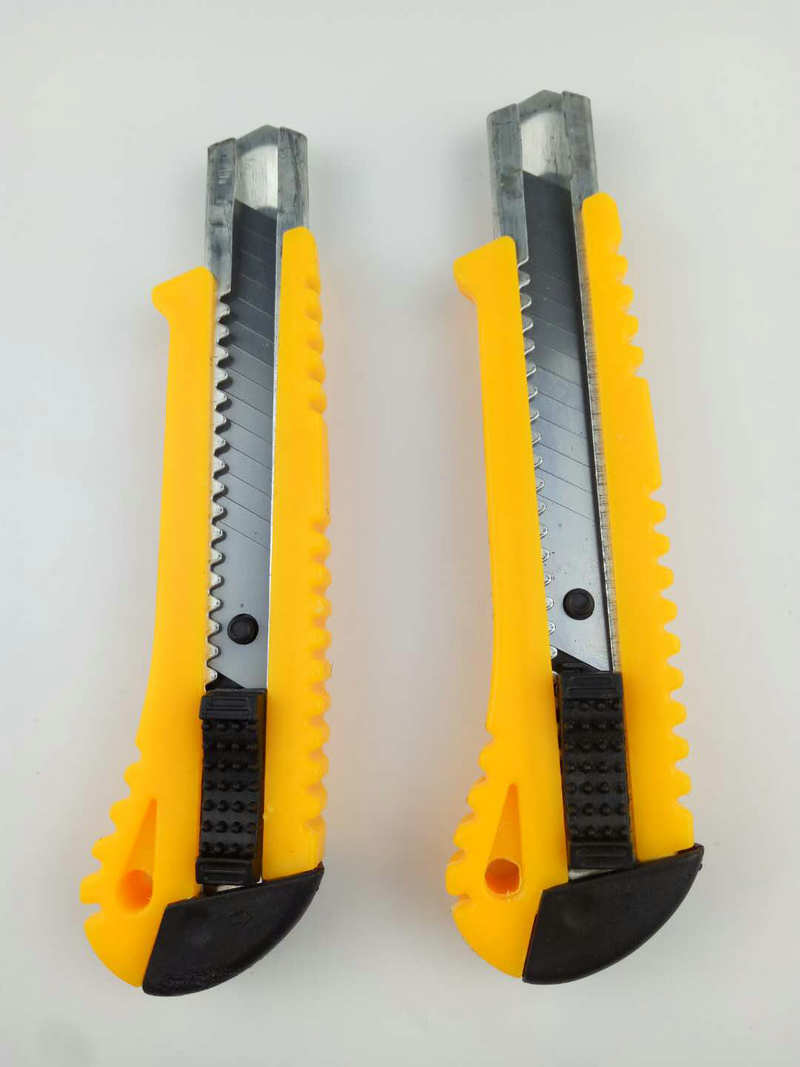cutter: (442, 93, 706, 986), (75, 123, 337, 1000)
